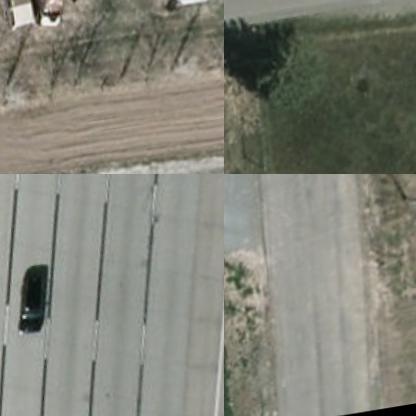car: (3, 255, 62, 336), (28, 0, 80, 26), (0, 0, 37, 34)
